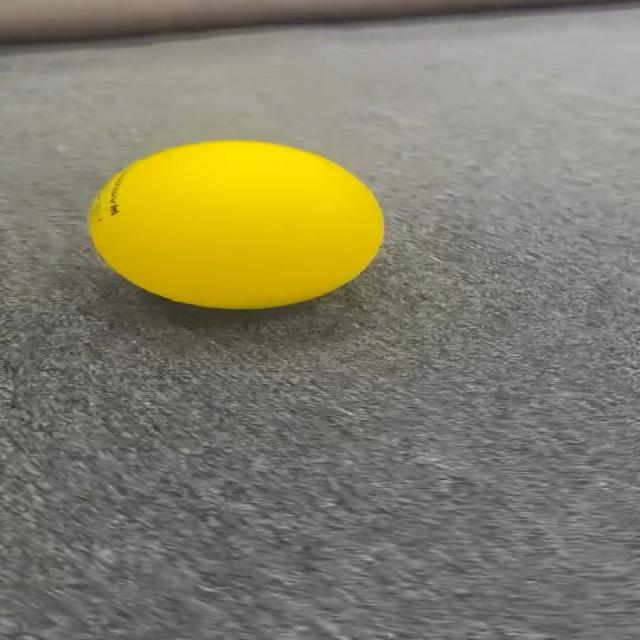Fuels: (91, 142, 380, 306)
